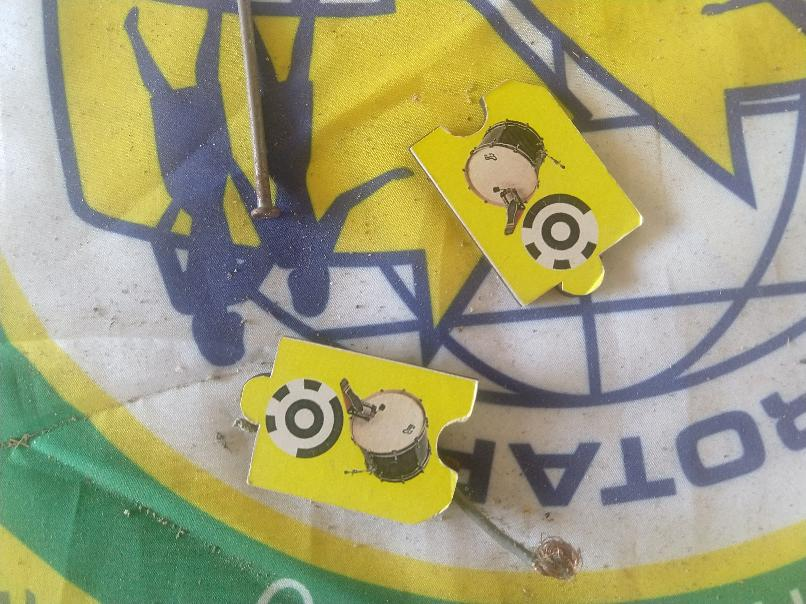bumbo: (409, 79, 644, 311), (235, 335, 482, 533)
